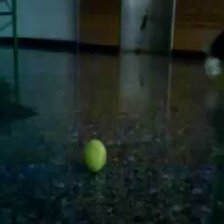tennis: (81, 139, 108, 171)
